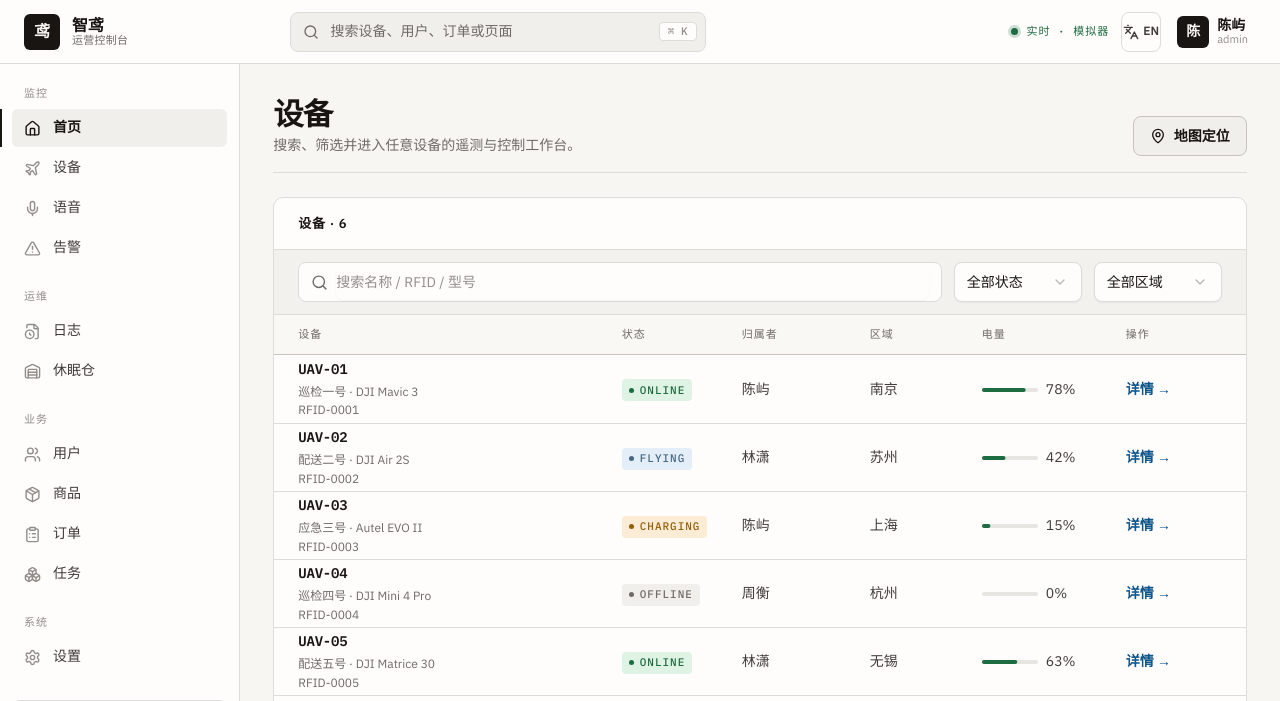
Test: UavListView › shows the empty state when nothing matches
Type "no-such-device" into the field with placeholder "搜索名称 / RFID / 型号" at [633, 282], box [336, 264, 929, 300]
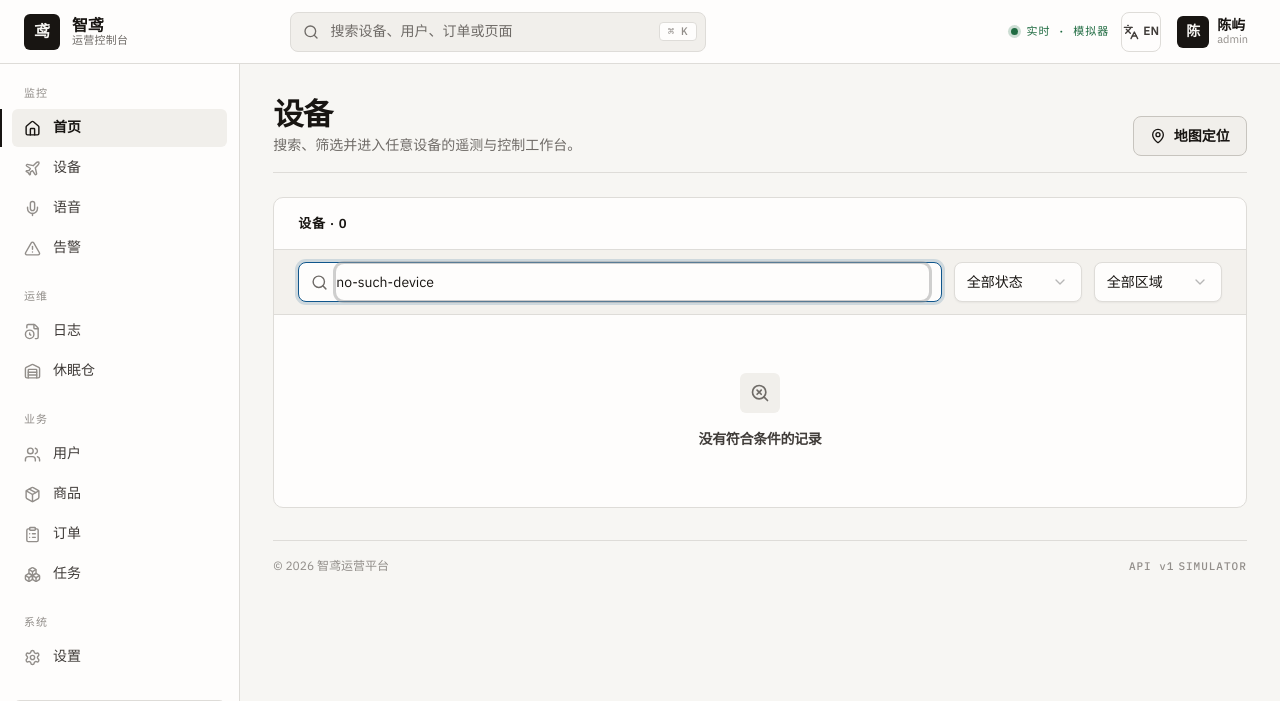
Now the text "没有符合条件的记录" is shown, box [699, 428, 822, 450]
